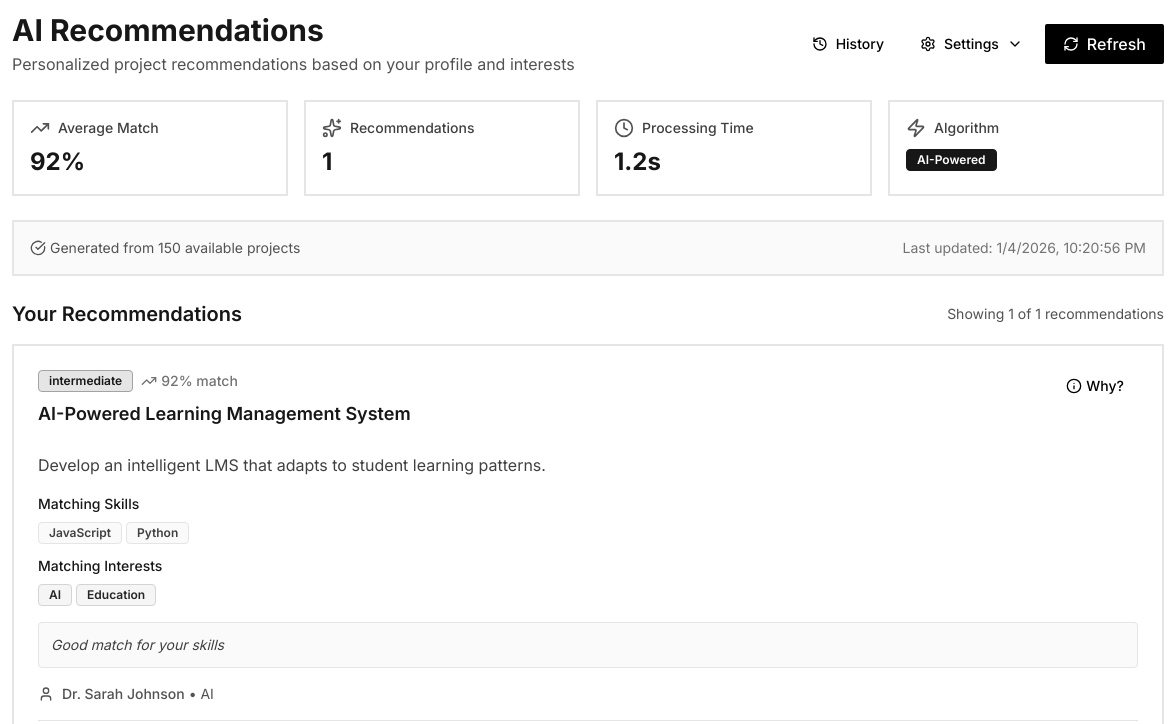
Test: RecommendationsDashboard › shows settings panel when settings button is clicked
Click the button "Settings" at (971, 44), box x1=906 y1=28 x2=1037 y2=60
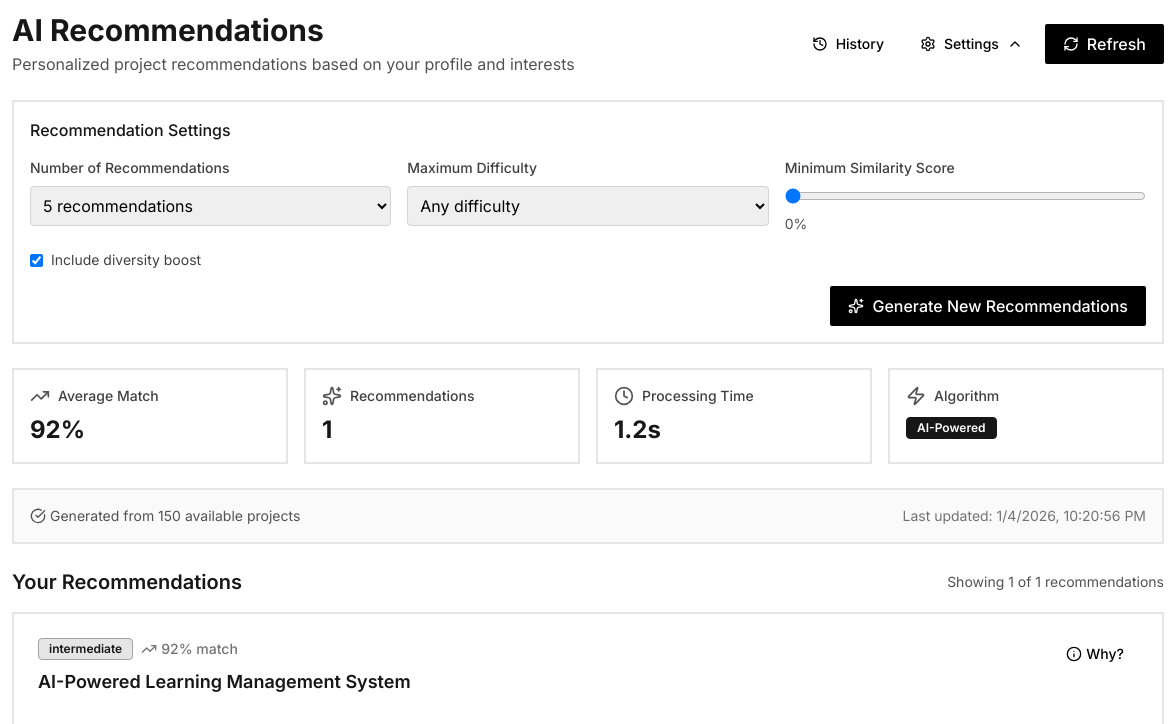
Result: the heading "Recommendation Settings" is shown at x1=30 y1=120 x2=231 y2=140
Result: the text "Number of Recommendations" is shown at x1=30 y1=159 x2=229 y2=176
Result: the text "Maximum Difficulty" is shown at x1=407 y1=159 x2=537 y2=176
